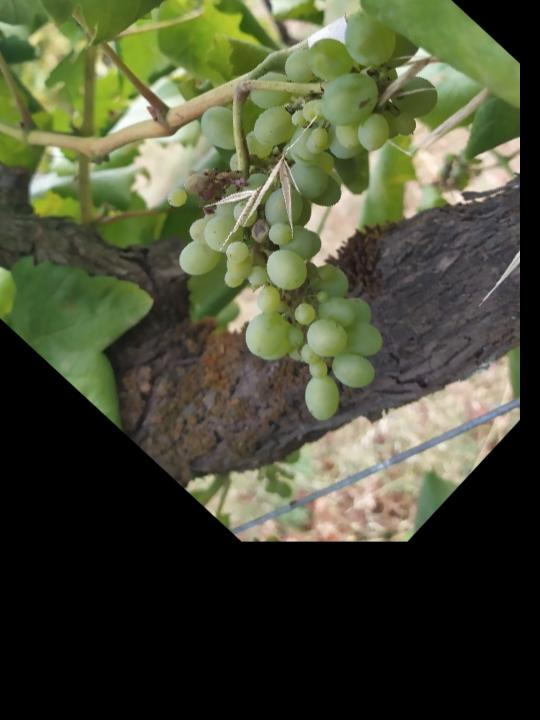grape: (94, 0, 540, 441)
